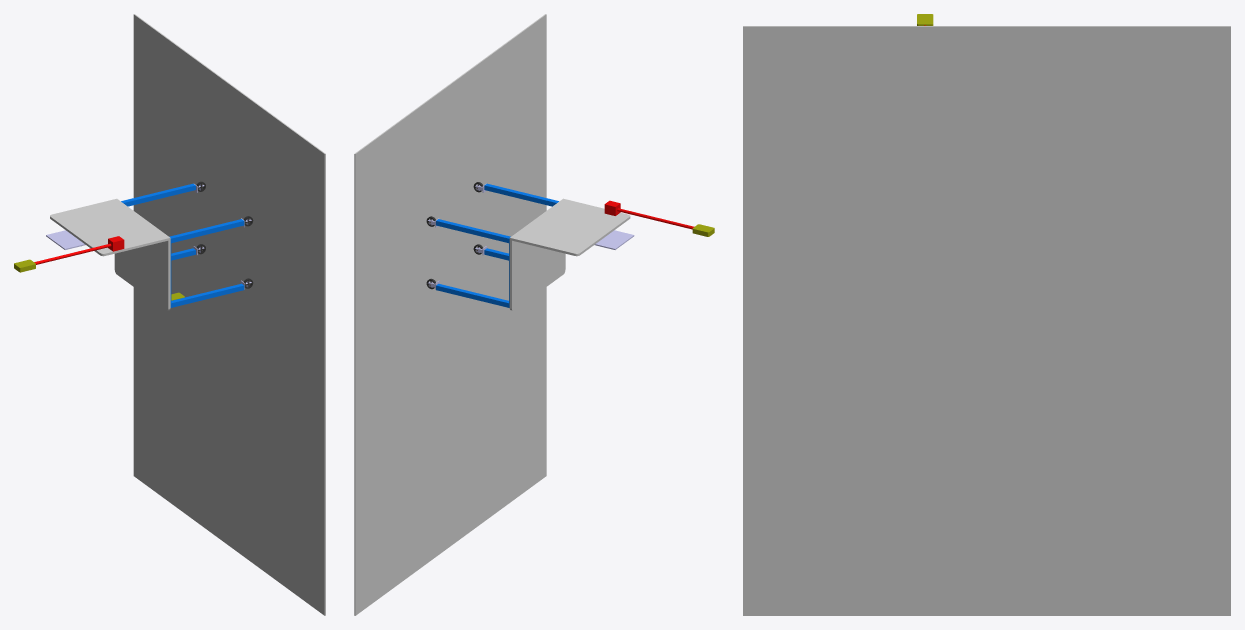
Rendered from Scene_Etiquetage_GLB.gltf.
3 renders of one model, left to right at view 1: azimuth 30°, elevation 25°; view 2: azimuth 150°, elevation 25°; view 3: azimuth 270°, elevation 25°, orthographic. The views are drawn at different scales.
Parts seen in each view (by area): view 1: plan-post002, bureau_Poste004, bureau_Poste2; view 2: plan-post002, bureau_Poste004, bureau_Poste2; view 3: plan-post002.
Boxes of the visible parts, left/top/right/bottom form: plan-post002: left=133, top=14, right=325, bottom=615; bureau_Poste004: left=46, top=183, right=244, bottom=310; bureau_Poste2: left=14, top=236, right=124, bottom=272; plan-post002: left=354, top=14, right=546, bottom=615; bureau_Poste004: left=436, top=183, right=634, bottom=310; bureau_Poste2: left=604, top=200, right=714, bottom=236; plan-post002: left=743, top=26, right=1230, bottom=615.
Bounding box in the file's own units: 2.16 × 4 × 3.
